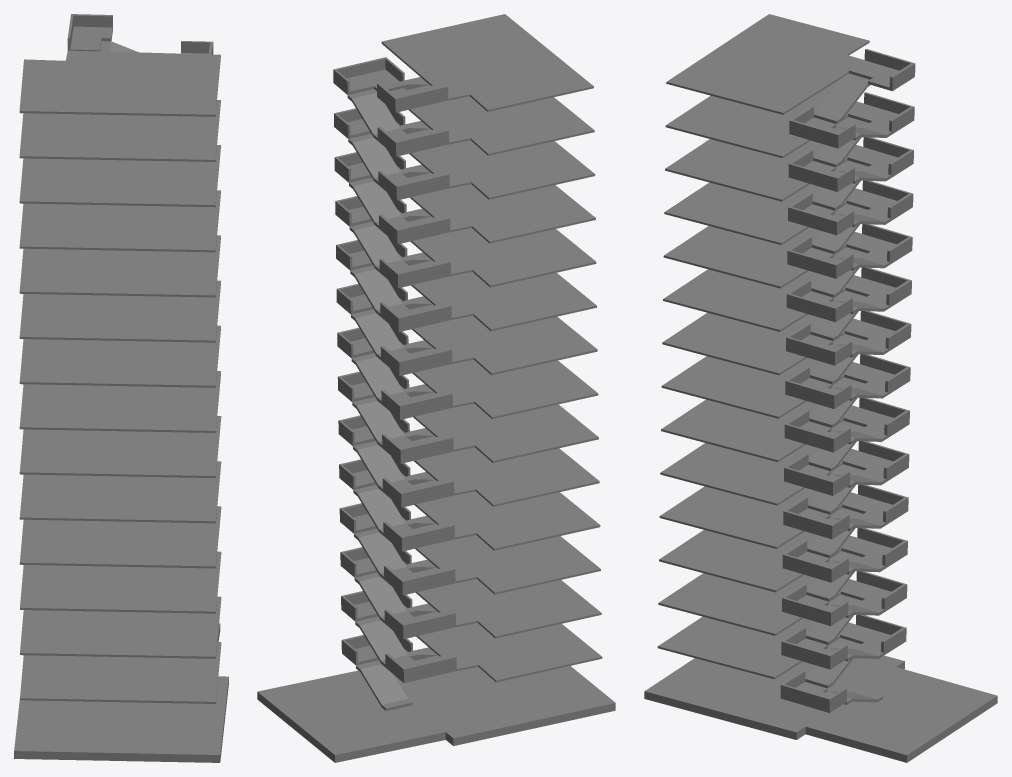
The model's file is SM_Building_04_SM_B4_Part1.fbx.
3 renders of one model, left to right at view 1: azimuth 30°, elevation 25°; view 2: azimuth 150°, elevation 25°; view 3: azimuth 270°, elevation 25°, orthographic. The views are drawn at different scales.
Parts seen in each view (by area): view 1: SM_Building_04_SM_B4_Part1; view 2: SM_Building_04_SM_B4_Part1; view 3: SM_Building_04_SM_B4_Part1.
Part boxes in pixels (box(x1,y1,x2,y2)): SM_Building_04_SM_B4_Part1: box(14, 14, 228, 762); SM_Building_04_SM_B4_Part1: box(257, 14, 615, 762); SM_Building_04_SM_B4_Part1: box(644, 14, 997, 762).
Size of the model in its own units: 2124 by 2340 by 4623.
Materials: 1 (1 with a texture image).
